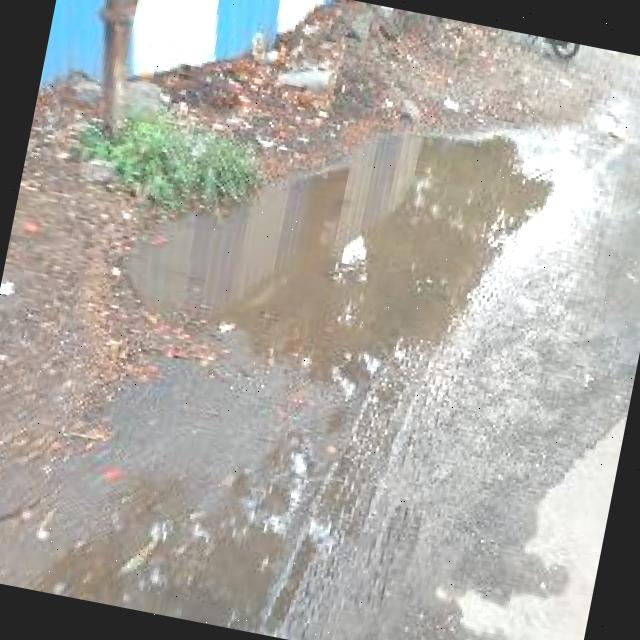stagnation: (124, 72, 550, 417)
